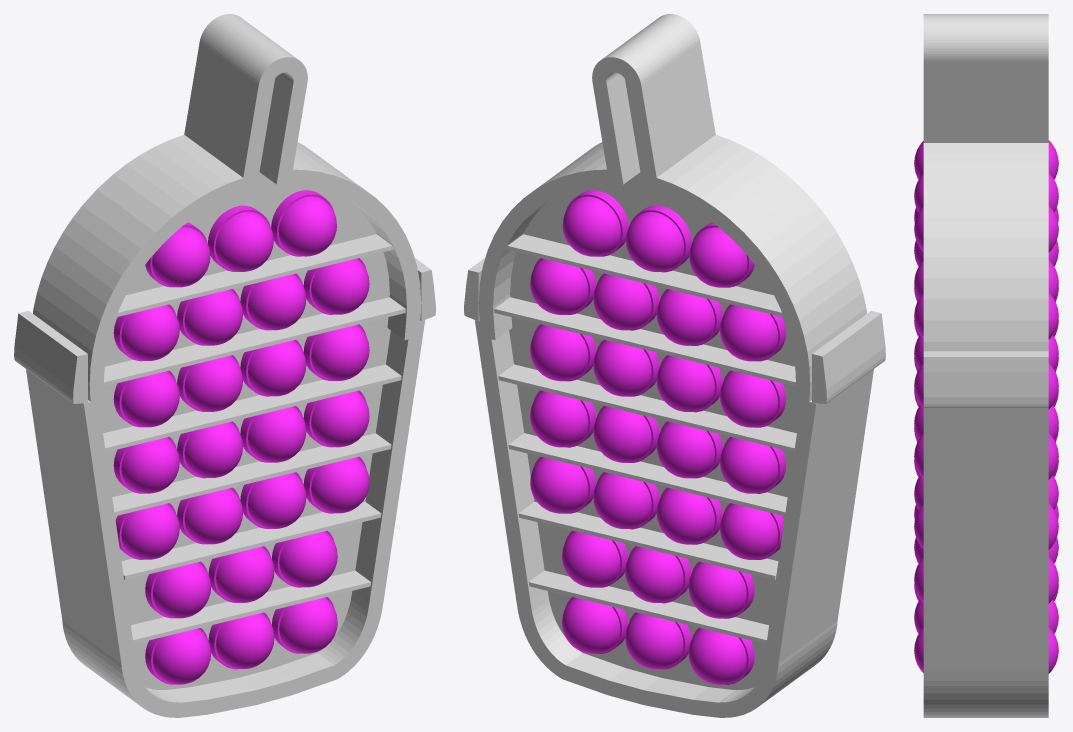
The picture shows the model from 3 angles, left to right: view 1: azimuth 30°, elevation 25°; view 2: azimuth 150°, elevation 25°; view 3: azimuth 270°, elevation 25°; orthographic projection. The views are drawn at different scales.
Parts seen in each view (by area): view 1: Extrude_2, Cube.036, Cube.037, Cube.035, Cube.038, Cube.039, Cube.040, Sphere.564, Sphere.565, Sphere.563, Sphere.574, Sphere.588 (+22 smaller); view 2: Extrude_2, Cube.036, Cube.037, Cube.035, Cube.038, Cube.039, Cube.040, Sphere.589, Sphere.590, Sphere.585, Sphere.597, Sphere.593 (+22 smaller); view 3: Extrude_2, Sphere.602, Sphere.606, Sphere.609, Sphere.612, Sphere.590, Sphere.594, Sphere.598, Sphere.565, Sphere.569, Sphere.573, Sphere.584 (+17 smaller).
Part boxes in pixels (x1,y1,x2,y2): Extrude_2: (14,14,435,717); Cube.036: (104,297,405,386); Cube.037: (103,364,401,452); Cube.035: (116,234,393,317); Cube.038: (112,433,391,516); Cube.039: (121,502,381,579); Cube.040: (131,570,371,643); Sphere.564: (215,211,273,271); Sphere.565: (278,196,336,256); Sphere.563: (152,227,210,287); Sphere.574: (121,437,179,493); Sphere.588: (279,597,337,653); Extrude_2: (464,14,885,717); Cube.036: (494,297,795,386); Cube.037: (498,364,796,452); Cube.035: (506,234,783,317); Cube.038: (508,433,787,516); Cube.039: (518,502,778,579); Cube.040: (528,570,768,643); Sphere.589: (626,212,684,272); Sphere.590: (562,196,620,256); Sphere.585: (689,227,747,287); Sphere.597: (593,340,651,396); Sphere.593: (593,274,651,330); Extrude_2: (923,14,1048,717); Sphere.602: (1048,433,1058,479); Sphere.606: (1048,503,1058,549); Sphere.609: (1048,557,1058,603); Sphere.612: (1048,627,1058,673); Sphere.590: (1048,206,1058,252); Sphere.594: (1048,293,1058,339); Sphere.598: (1048,363,1058,409); Sphere.565: (914,206,923,251); Sphere.569: (914,293,923,338); Sphere.573: (914,363,923,408); Sphere.584: (914,557,923,602).
Bounding box in the file's own units: 17.2 × 29.02 × 5.61.
